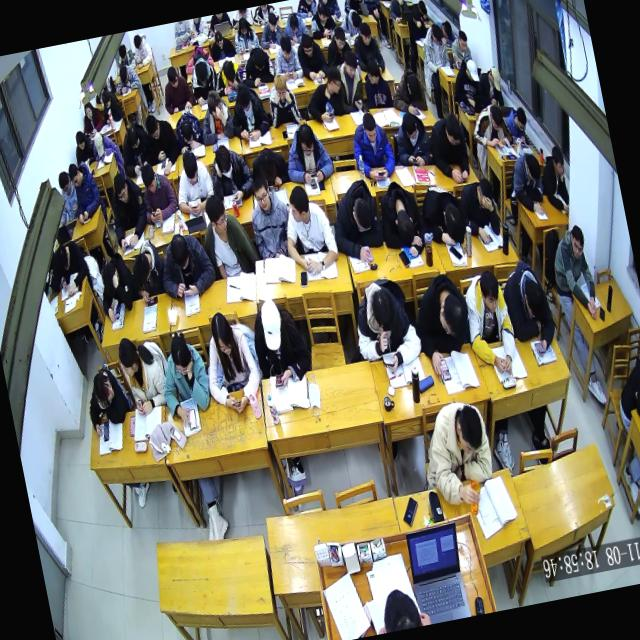bow: (406, 270, 479, 379), (496, 255, 560, 361), (324, 175, 389, 268), (154, 225, 220, 302), (372, 175, 429, 262), (416, 180, 471, 253), (81, 363, 134, 438), (205, 140, 258, 207), (125, 235, 171, 304), (506, 150, 550, 220), (140, 108, 183, 178), (534, 144, 574, 217), (468, 100, 516, 155), (116, 119, 156, 179), (248, 144, 292, 196), (387, 67, 430, 120), (235, 43, 278, 91), (170, 108, 208, 158), (210, 56, 247, 100), (280, 8, 312, 46), (182, 42, 216, 76), (89, 128, 121, 162), (110, 60, 142, 94), (338, 6, 367, 42), (404, 4, 429, 43), (111, 42, 138, 76), (435, 17, 457, 48), (411, 0, 430, 23)
down: (452, 402, 488, 461), (434, 289, 470, 345), (256, 296, 288, 354), (368, 285, 400, 338), (521, 276, 551, 324), (208, 310, 237, 359), (167, 335, 195, 380), (349, 196, 376, 237), (168, 232, 194, 274), (473, 175, 498, 213), (295, 120, 319, 158), (256, 146, 280, 183), (180, 149, 202, 189), (442, 110, 465, 148), (132, 250, 156, 286), (99, 258, 122, 295), (214, 144, 236, 182), (359, 108, 380, 144), (111, 172, 132, 207), (399, 110, 420, 144), (140, 161, 160, 196), (524, 152, 544, 186), (143, 112, 163, 144), (272, 70, 290, 104), (341, 49, 360, 81), (487, 102, 506, 134), (54, 243, 73, 274), (550, 145, 567, 179), (235, 84, 254, 114), (404, 71, 423, 101), (277, 34, 295, 64), (356, 18, 374, 48), (178, 116, 196, 146), (299, 33, 317, 61), (125, 124, 143, 152), (332, 23, 349, 52), (192, 58, 210, 85), (220, 59, 238, 86), (514, 105, 530, 135), (66, 162, 83, 190), (250, 46, 268, 72), (57, 170, 73, 198), (464, 58, 480, 86), (487, 64, 503, 92), (92, 130, 106, 158), (456, 29, 471, 54), (430, 21, 444, 46), (166, 64, 180, 88), (316, 2, 330, 26), (348, 10, 364, 30), (266, 12, 280, 34), (74, 131, 88, 152), (116, 65, 130, 86), (116, 42, 130, 63), (288, 13, 302, 34), (237, 15, 250, 36), (100, 89, 112, 110), (132, 32, 144, 50), (417, 0, 428, 16)
lookup: (476, 267, 504, 315), (249, 172, 274, 215), (566, 221, 588, 262), (82, 100, 96, 122)
sit: (413, 394, 502, 514), (347, 272, 428, 380), (195, 304, 267, 421), (456, 266, 524, 381), (152, 325, 218, 432), (274, 177, 342, 280), (246, 292, 314, 392), (194, 188, 262, 283), (544, 222, 603, 327), (242, 169, 298, 264), (114, 329, 172, 420), (103, 165, 154, 254), (424, 109, 476, 191), (279, 118, 337, 190), (346, 110, 398, 187), (168, 145, 219, 219), (92, 249, 142, 323), (456, 174, 505, 248), (133, 157, 181, 227), (224, 78, 274, 144), (300, 62, 350, 126), (192, 85, 238, 147), (390, 109, 434, 173), (66, 156, 106, 224), (262, 71, 302, 132), (52, 236, 92, 296), (334, 48, 369, 116), (348, 16, 387, 77), (610, 353, 640, 427), (185, 52, 223, 108), (358, 56, 394, 112), (293, 30, 330, 84), (158, 64, 196, 116), (268, 34, 305, 86), (418, 21, 452, 76), (449, 58, 485, 106), (54, 166, 82, 224), (475, 63, 507, 110), (502, 102, 532, 150), (304, 0, 338, 42), (322, 22, 354, 66), (230, 14, 262, 56), (448, 28, 476, 72), (256, 12, 286, 52), (207, 27, 238, 64), (70, 128, 97, 170), (98, 86, 126, 125), (78, 96, 105, 134), (129, 31, 155, 70), (384, 0, 411, 25)
